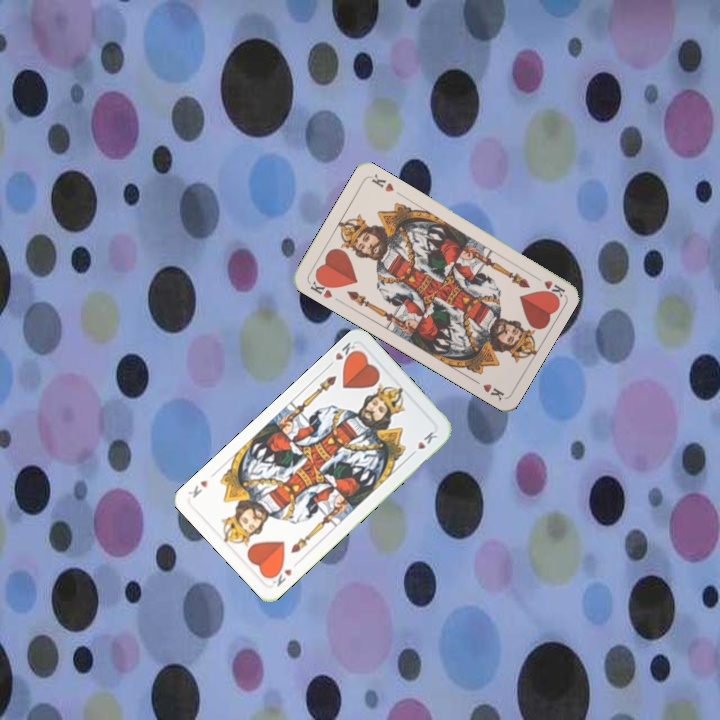HK: (529, 271, 567, 300), (331, 338, 360, 367), (305, 274, 336, 301), (266, 562, 295, 589)
